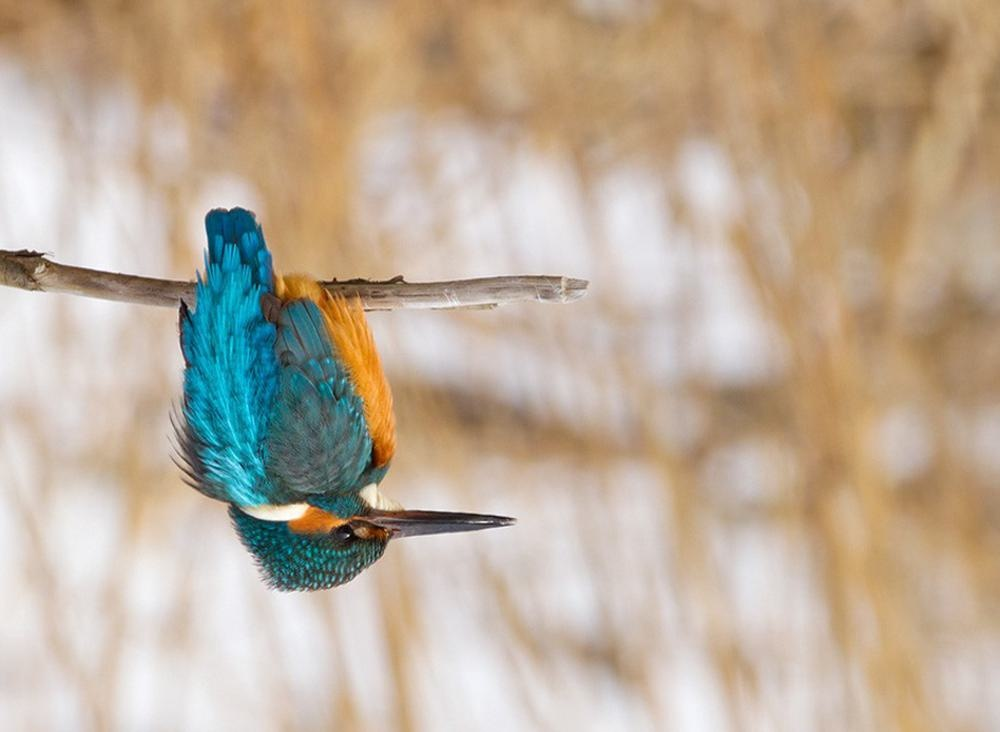kingfisher: (161, 200, 513, 599)
